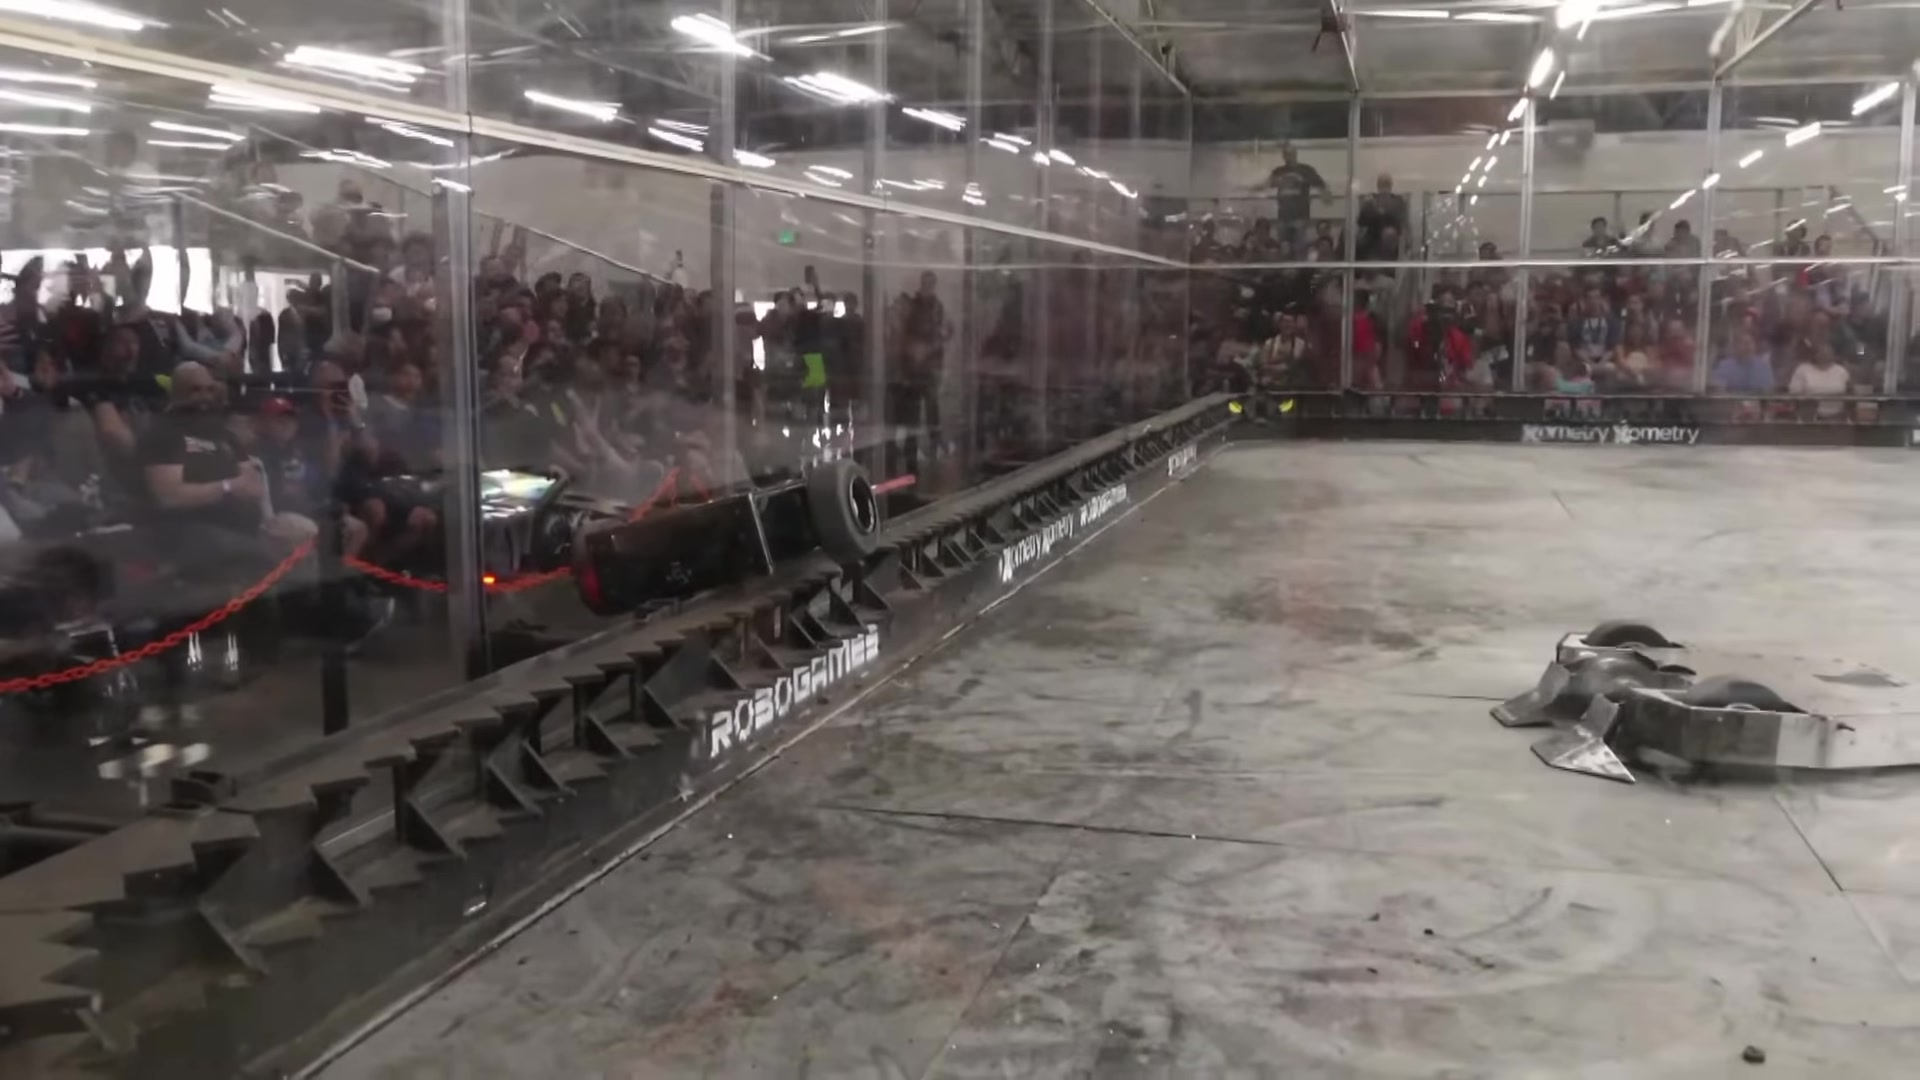combatbot: (1490, 618, 1920, 782), (574, 471, 923, 617)
